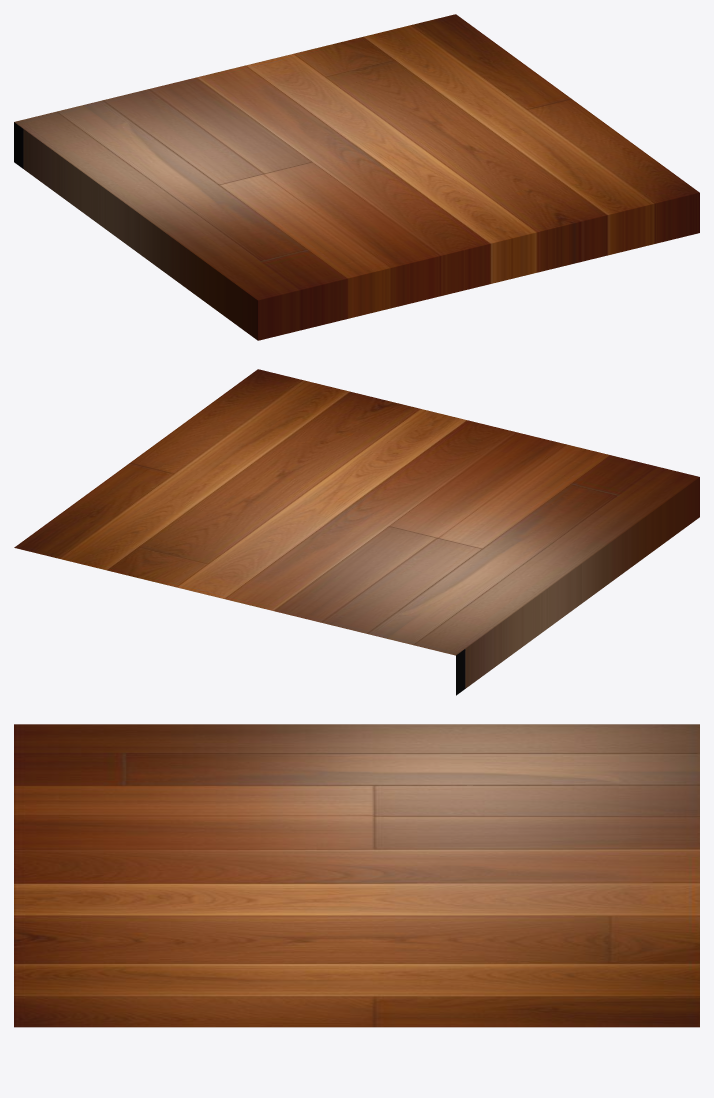
The model's file is floor.glb.
3 views of the same model, one above another, from view 1: azimuth 30°, elevation 25°; view 2: azimuth 150°, elevation 25°; view 3: azimuth 270°, elevation 25° (orthographic). The views are drawn at different scales.
Visible parts, largest first — view 1: Cube.022; view 2: Cube.022; view 3: Cube.022.
Part boxes in pixels (x1,y1,x2,y2): Cube.022: [14, 14, 699, 340]; Cube.022: [14, 369, 699, 695]; Cube.022: [14, 724, 699, 1027].
Bounding box in the file's own units: 4.6 × 0.4 × 4.4.
Materials: 1 (1 with a texture image).
